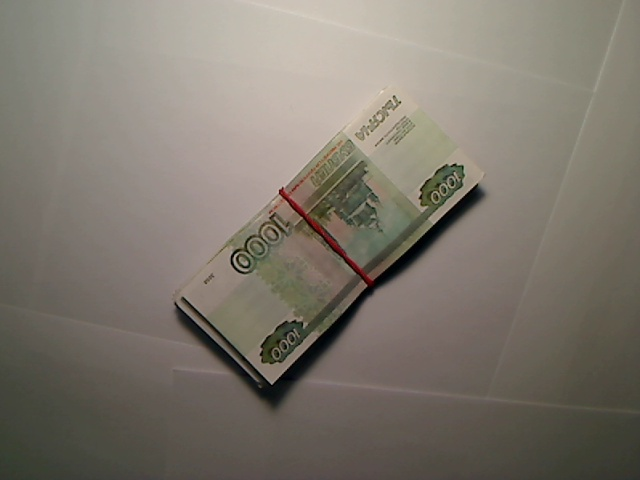banknotes: (172, 80, 489, 393)
